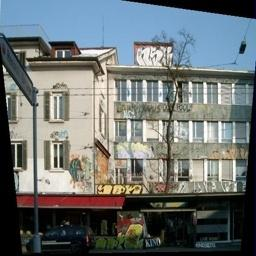building: (100, 44, 250, 241)
